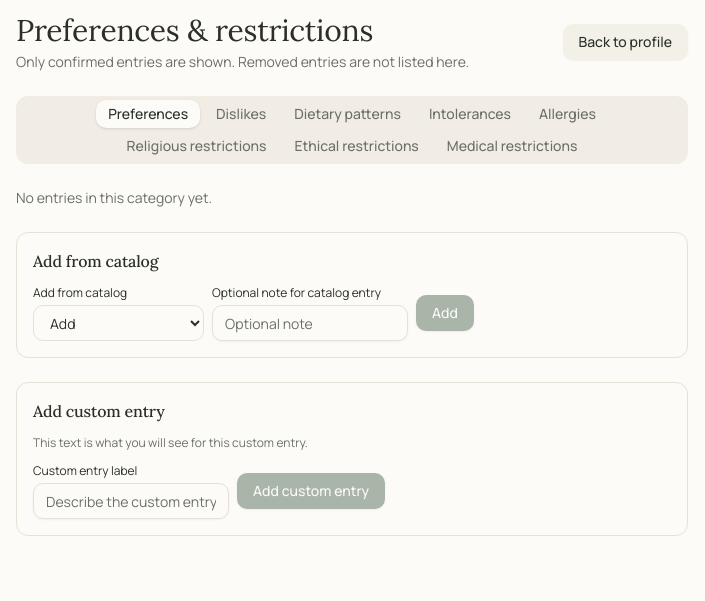
Test: ProfilePreferencesPage › preserves the typed custom label after a failed add instead of discarding it
Type "Keeps this text" into the field with test id "profile-preferences-custom-label" at {"x": 131, "y": 501}, box x1=33 y1=483 x2=229 y2=519
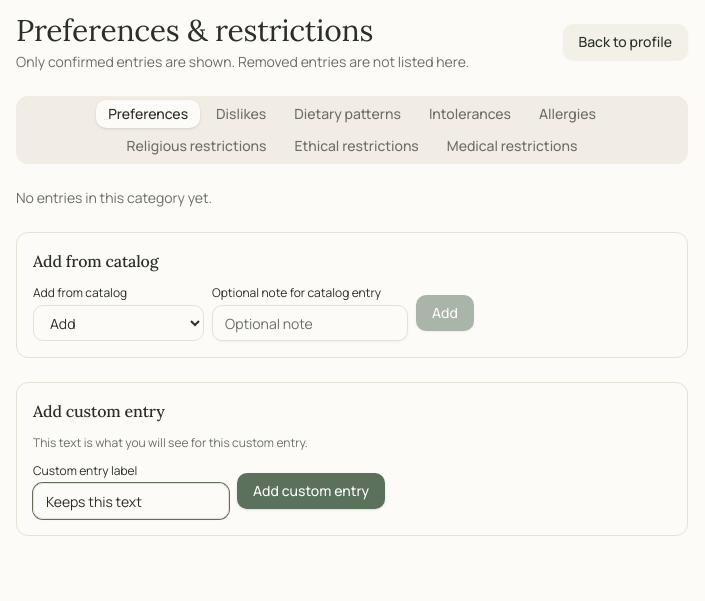
Click the button with test id "profile-preferences-custom-submit" at {"x": 311, "y": 491}, box x1=237 y1=473 x2=385 y2=509
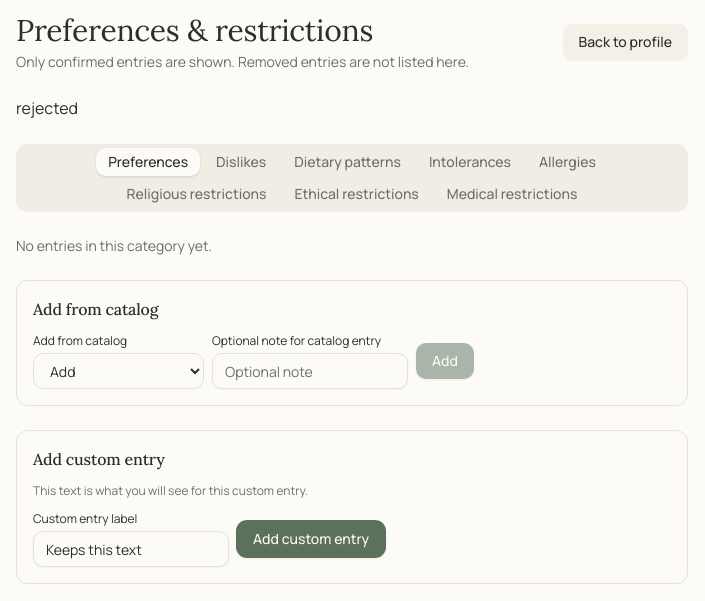
Check: the message "rejected" is shown, box x1=16 y1=97 x2=78 y2=119
